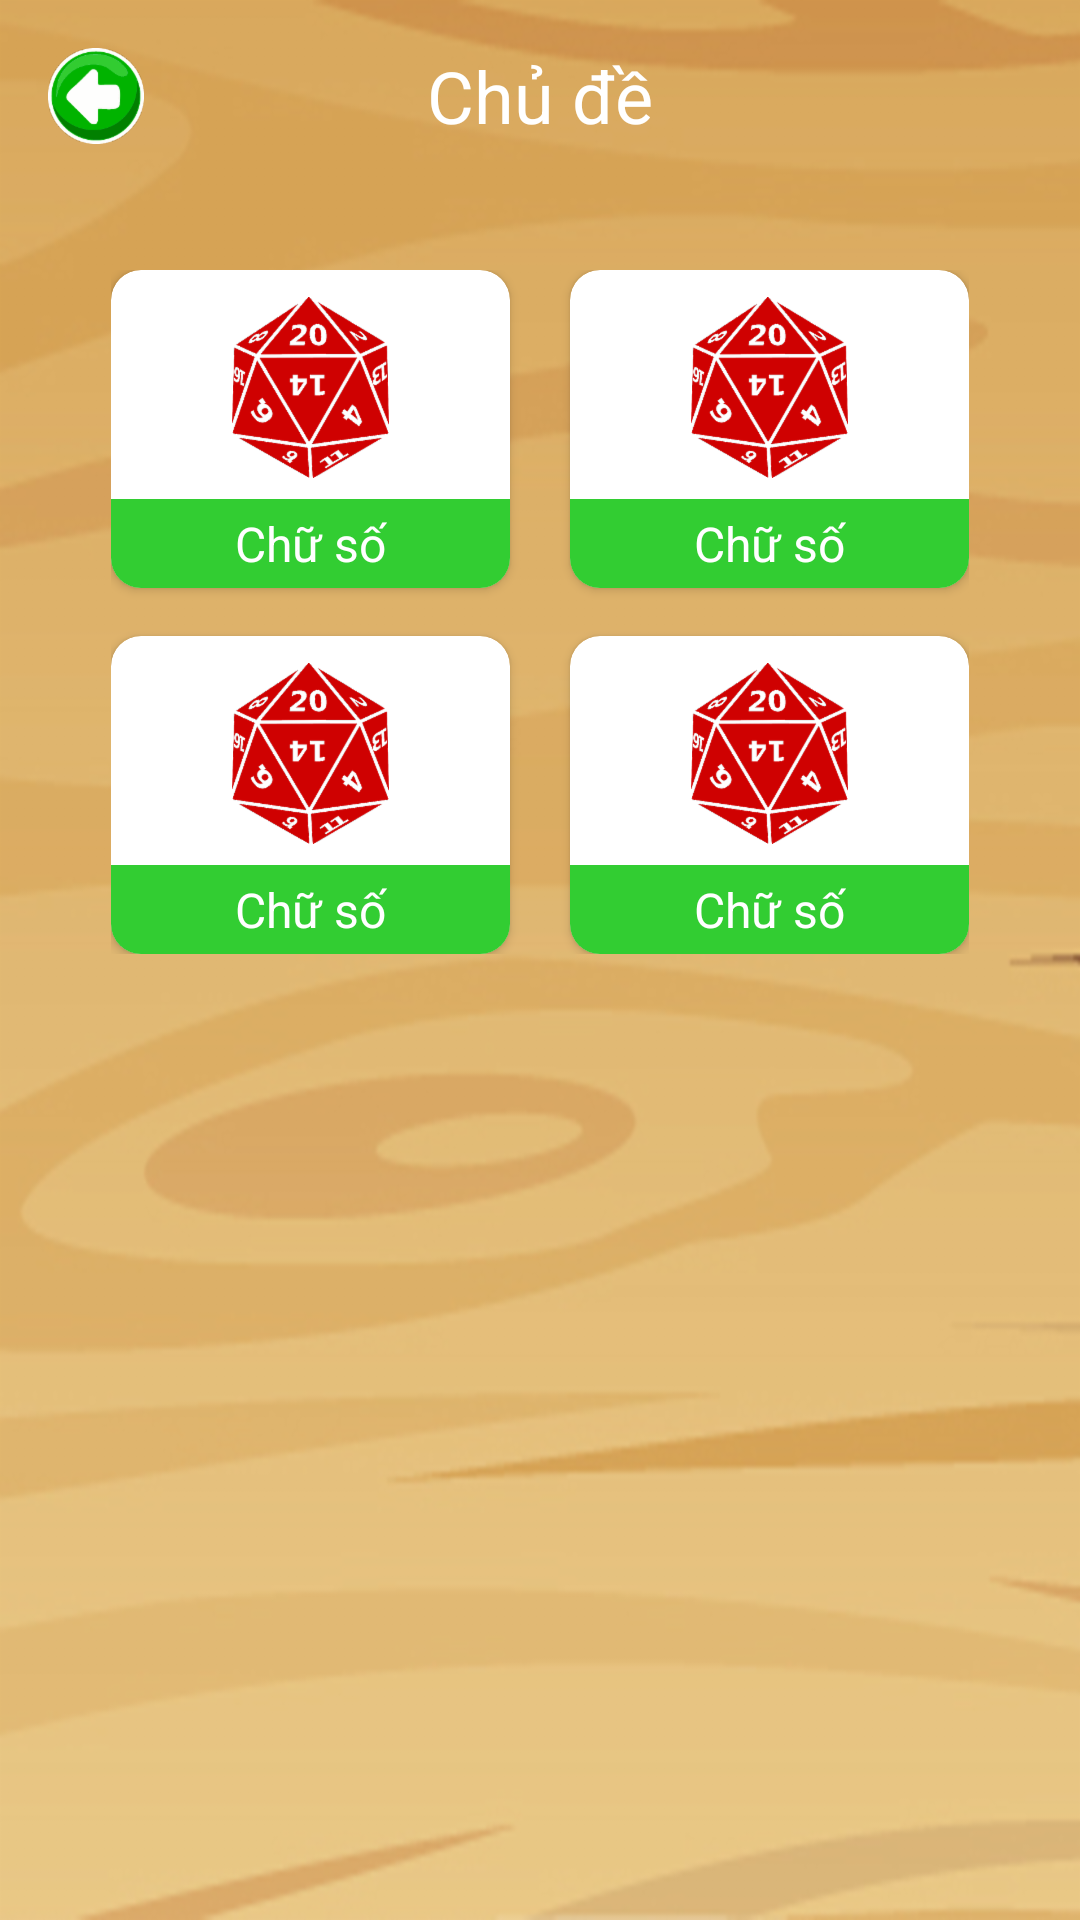

Locate icon controls on the screen. Image size 1080px x 1920px, boxes as (x1, y1, x2, y2).
Image Back: (48, 48, 144, 144)
Image Topic: (232, 297, 389, 478), (691, 297, 848, 478), (232, 663, 389, 844), (691, 663, 848, 844)
